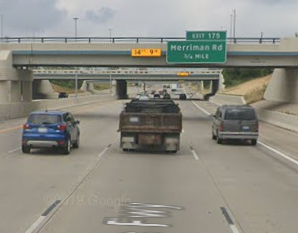1: (133, 48, 137, 56)
4: (136, 48, 141, 56)
9: (148, 48, 154, 56)
overheadsign: (131, 48, 162, 57)
